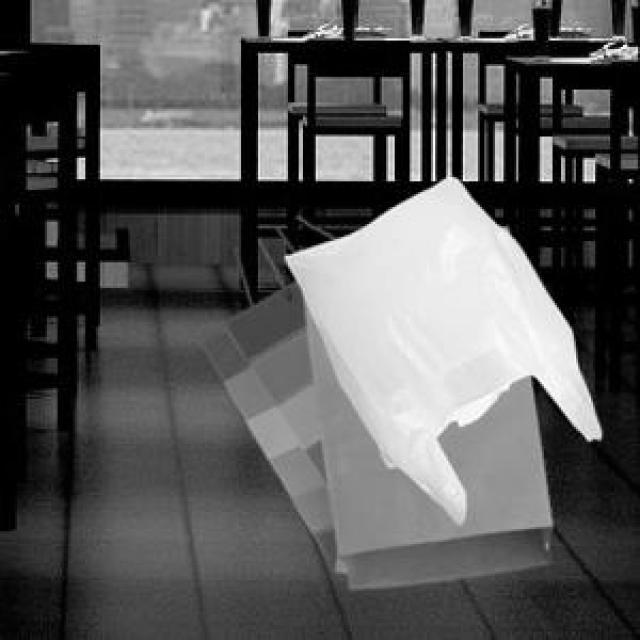paper: (302, 297, 548, 585), (198, 277, 344, 568)
